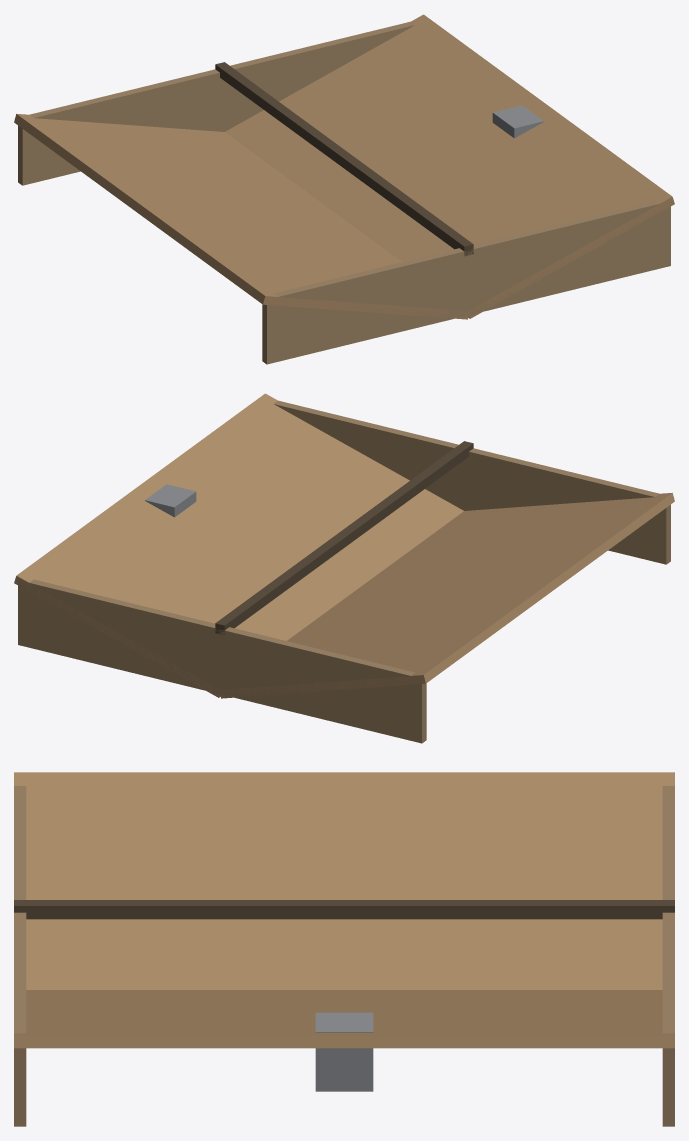
The model's file is hut_exterior.fbx.
The picture shows the model from 3 angles, top to bottom: view 1: azimuth 30°, elevation 25°; view 2: azimuth 150°, elevation 25°; view 3: azimuth 270°, elevation 25°; orthographic projection. The views are drawn at different scales.
Visible parts, largest first — view 1: hut_exterior; view 2: hut_exterior; view 3: hut_exterior.
Boxes of the visible parts, left/top/right/bottom form: hut_exterior: left=14, top=14, right=674, bottom=364; hut_exterior: left=14, top=393, right=674, bottom=743; hut_exterior: left=14, top=772, right=674, bottom=1126.
Bounding box in the file's own units: 15.29 × 2.62 × 16.
